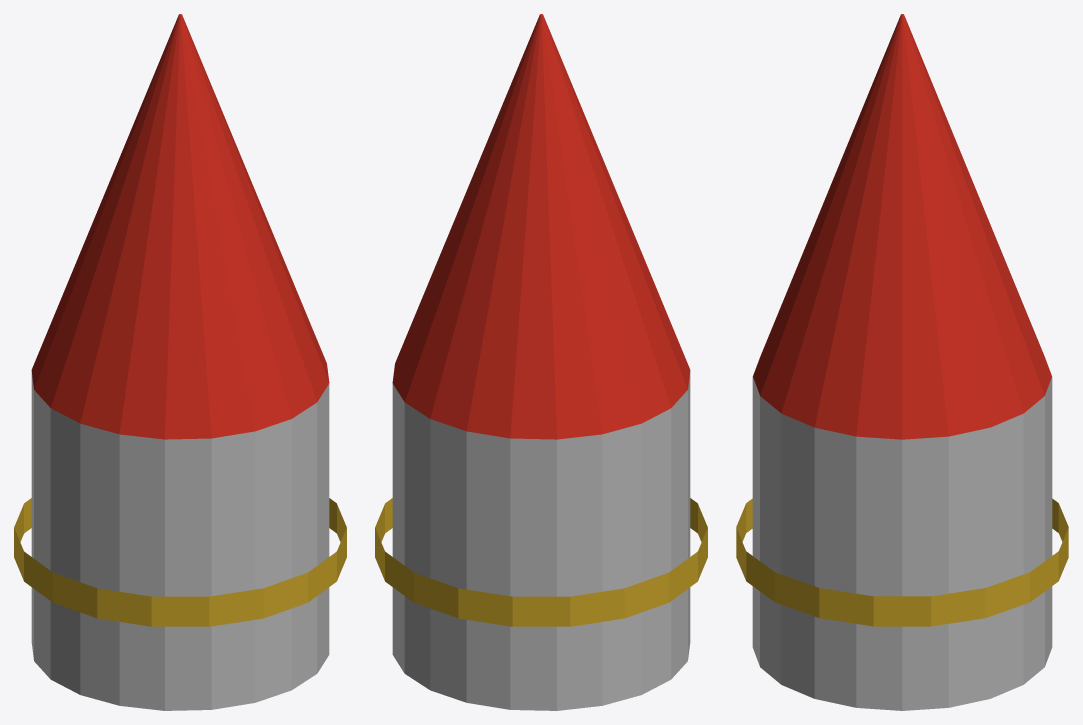
File: warhead.obj
The picture shows the model from 3 angles, left to right: view 1: azimuth 30°, elevation 25°; view 2: azimuth 150°, elevation 25°; view 3: azimuth 270°, elevation 25°; orthographic projection.
Parts seen in each view (by area): view 1: warhead; view 2: warhead; view 3: warhead.
Boxes of the visible parts, box(x1,y1,x2,y2) form: warhead: box(14, 14, 346, 710); warhead: box(375, 14, 707, 710); warhead: box(736, 14, 1068, 710).
Size of the model in its own units: 0.197 by 0.42 by 0.2.
